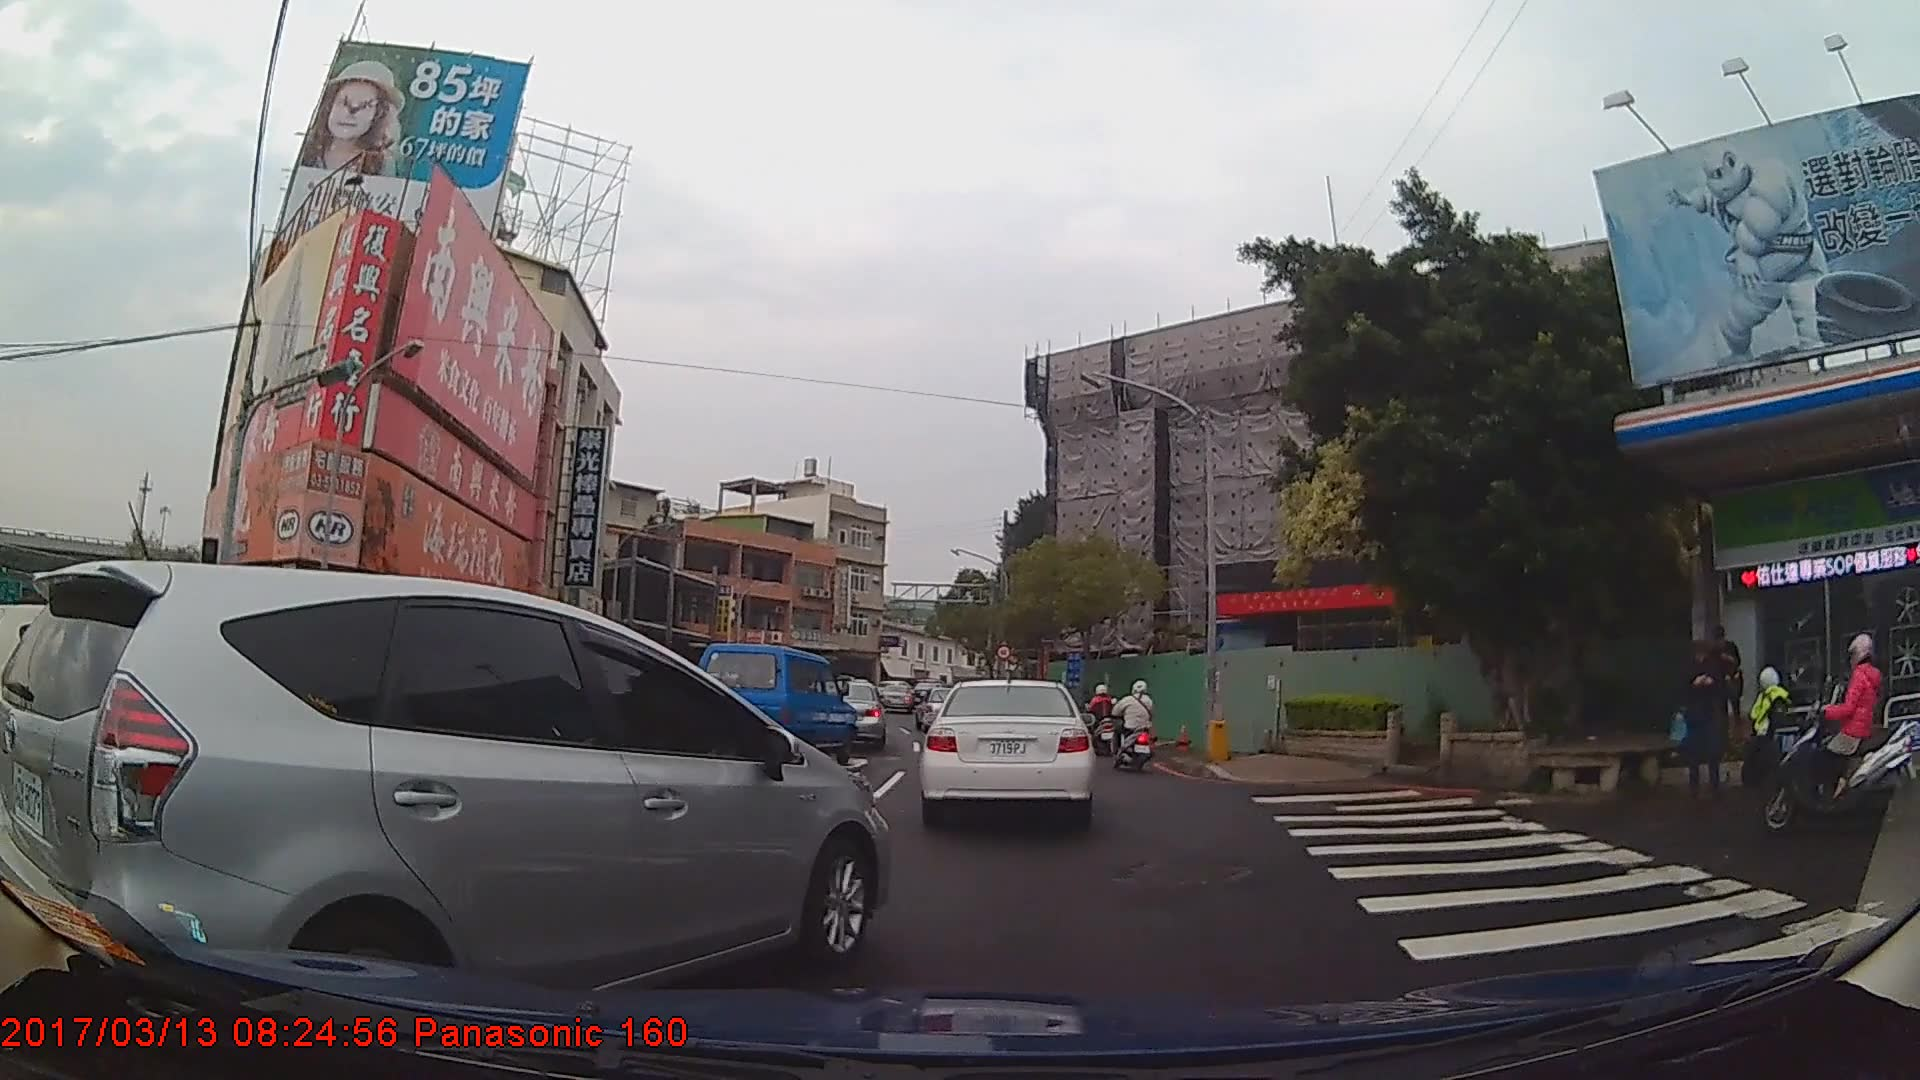pedestrian: (1686, 640, 1736, 800), (1698, 621, 1744, 751)
rider: (1762, 631, 1920, 831), (1115, 678, 1161, 771), (1087, 681, 1122, 756)
vehicle: (0, 560, 894, 1037), (916, 676, 1097, 831), (692, 640, 856, 762), (811, 680, 888, 752)
